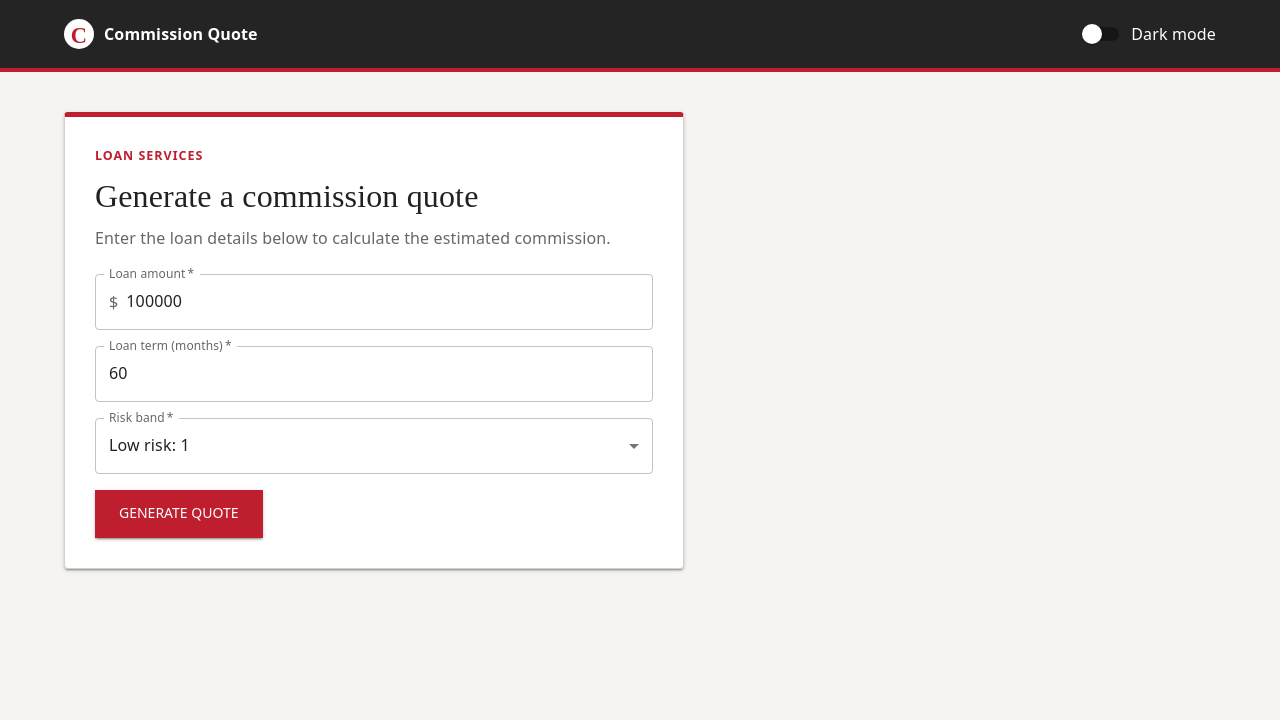
Test case: App › renders the quote form with its default values and four risk levels
This screenshot has width=1280, height=720.
Check: the heading "Generate a commission quote" is shown, box [95, 178, 478, 214]
Check: the number field labelled "Loan amount *" holds "100000", box [126, 274, 653, 330]
Step 1. Click the dropdown → x=149, y=445, box [109, 434, 190, 456]
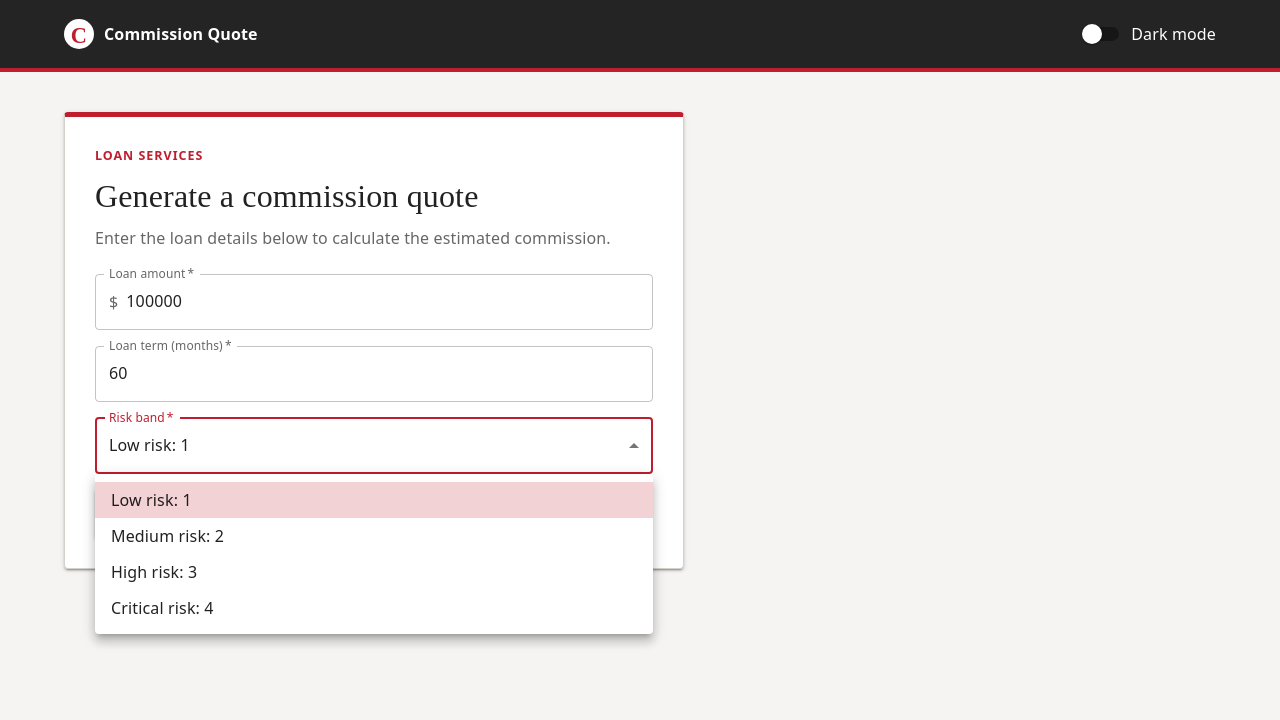
Check: the option "Critical risk: 4" is shown, box [111, 597, 214, 619]
